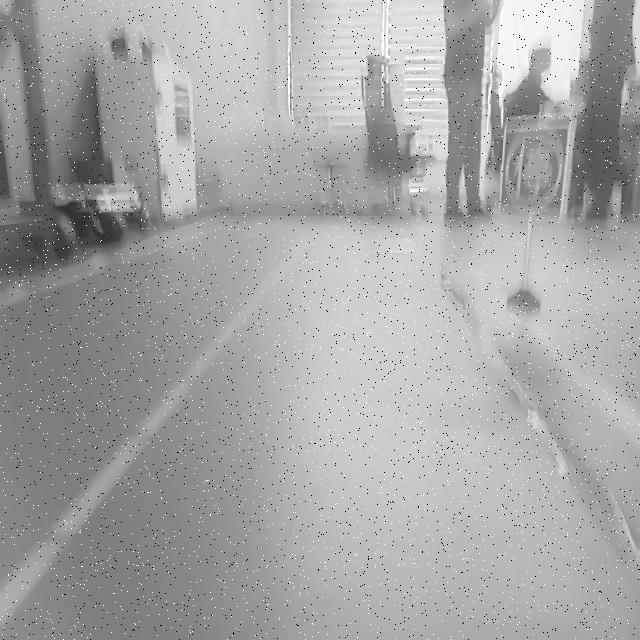left_lane: (0, 234, 304, 629)
right_lane: (471, 268, 640, 448)
